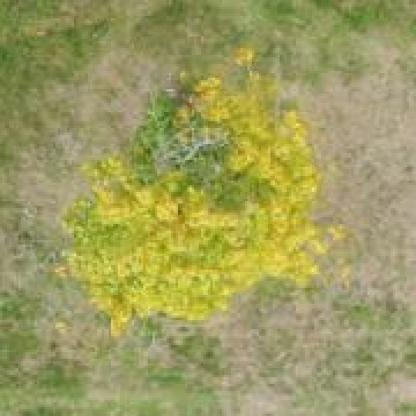Deciduous Tree: (67, 37, 349, 306)
